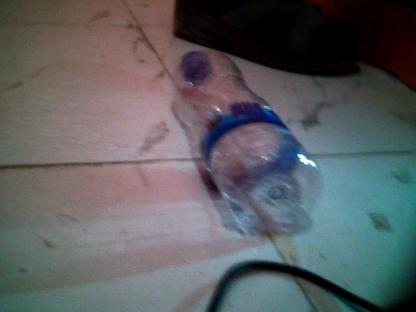Plastic Bottle: (170, 39, 328, 241)
